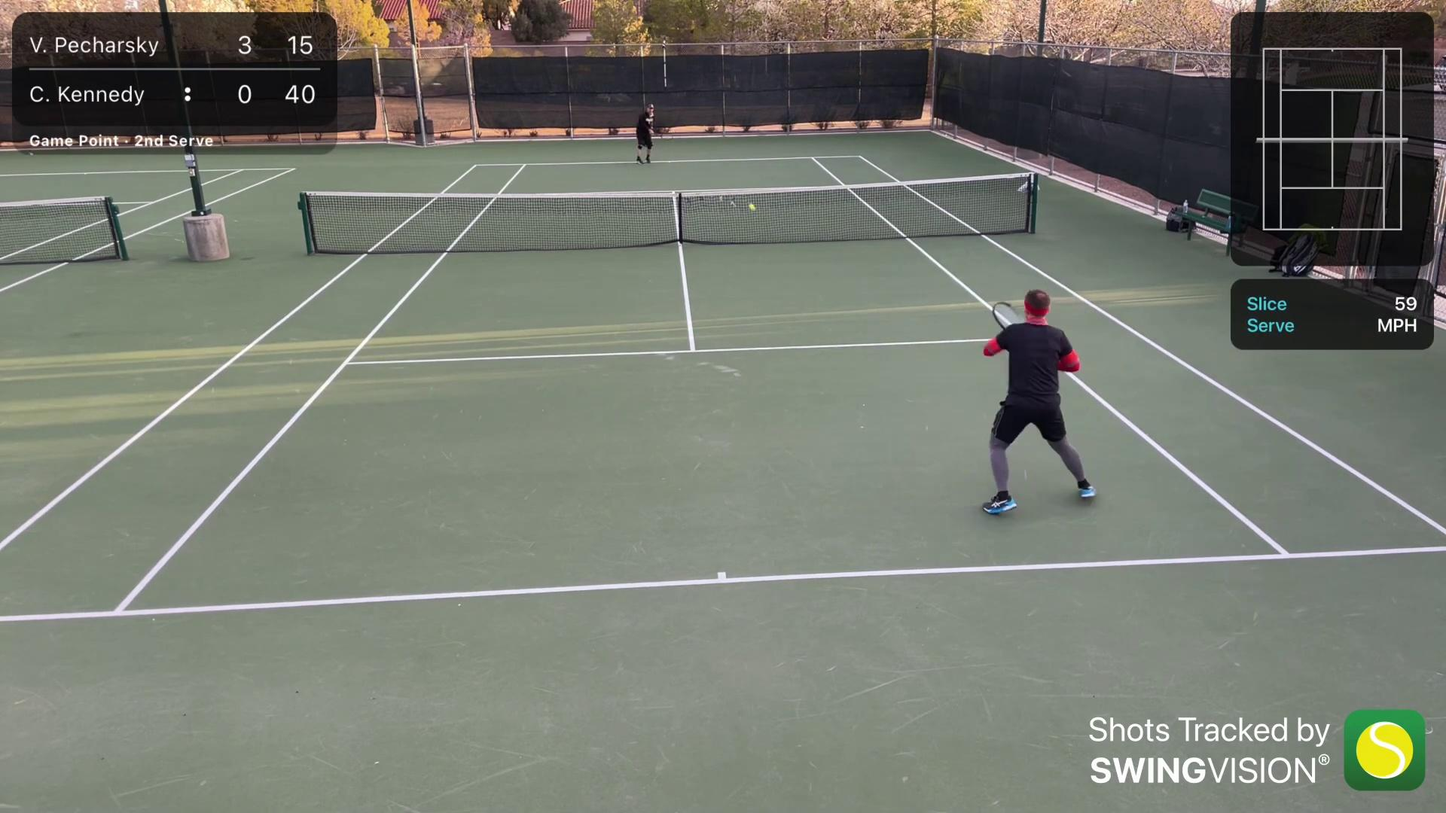ball: (746, 202, 757, 213)
